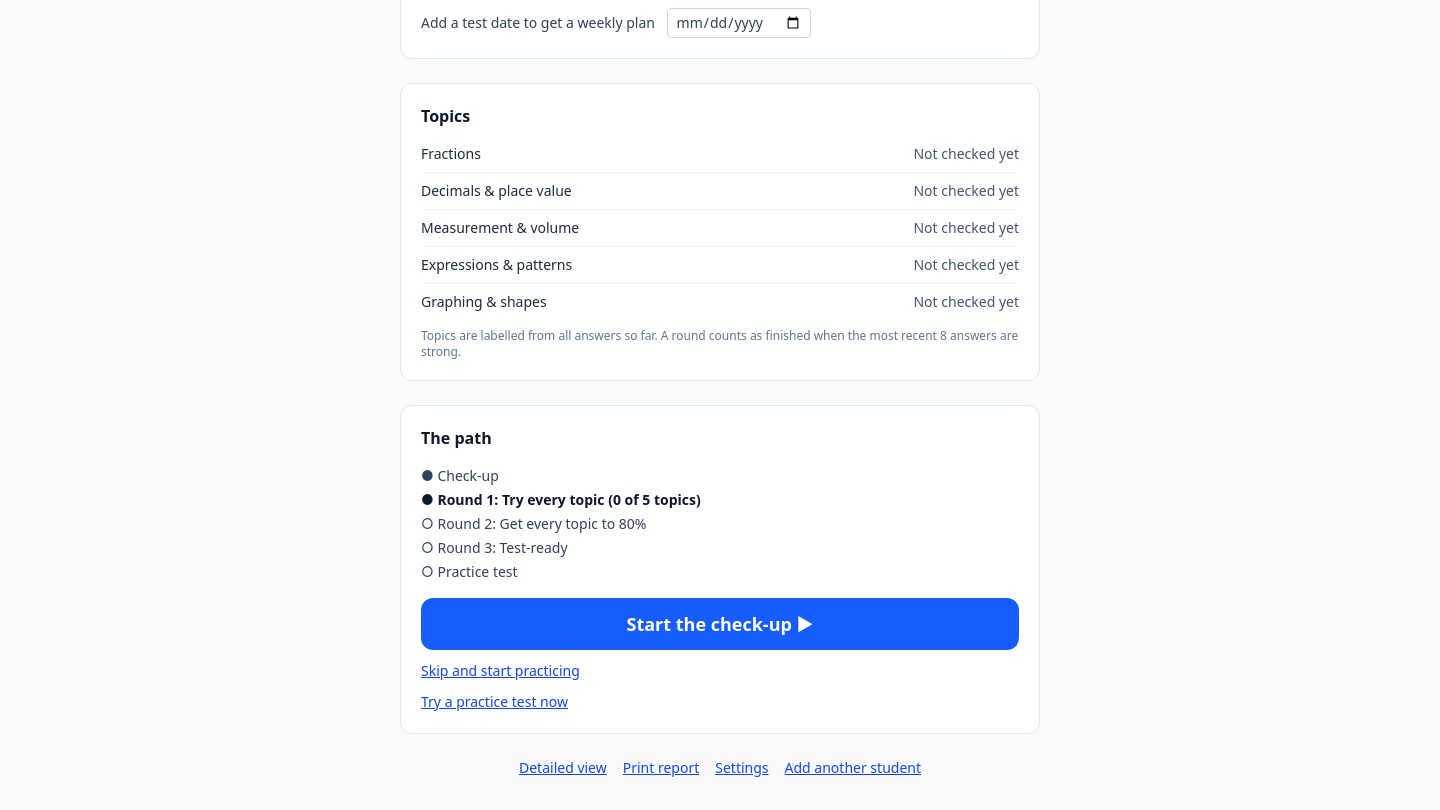
Test case: App flow › opens the detailed view and comes back
(page scrolled)
Click the button "Detailed view": (563, 768) [519,758,607,778]
(page scrolled)
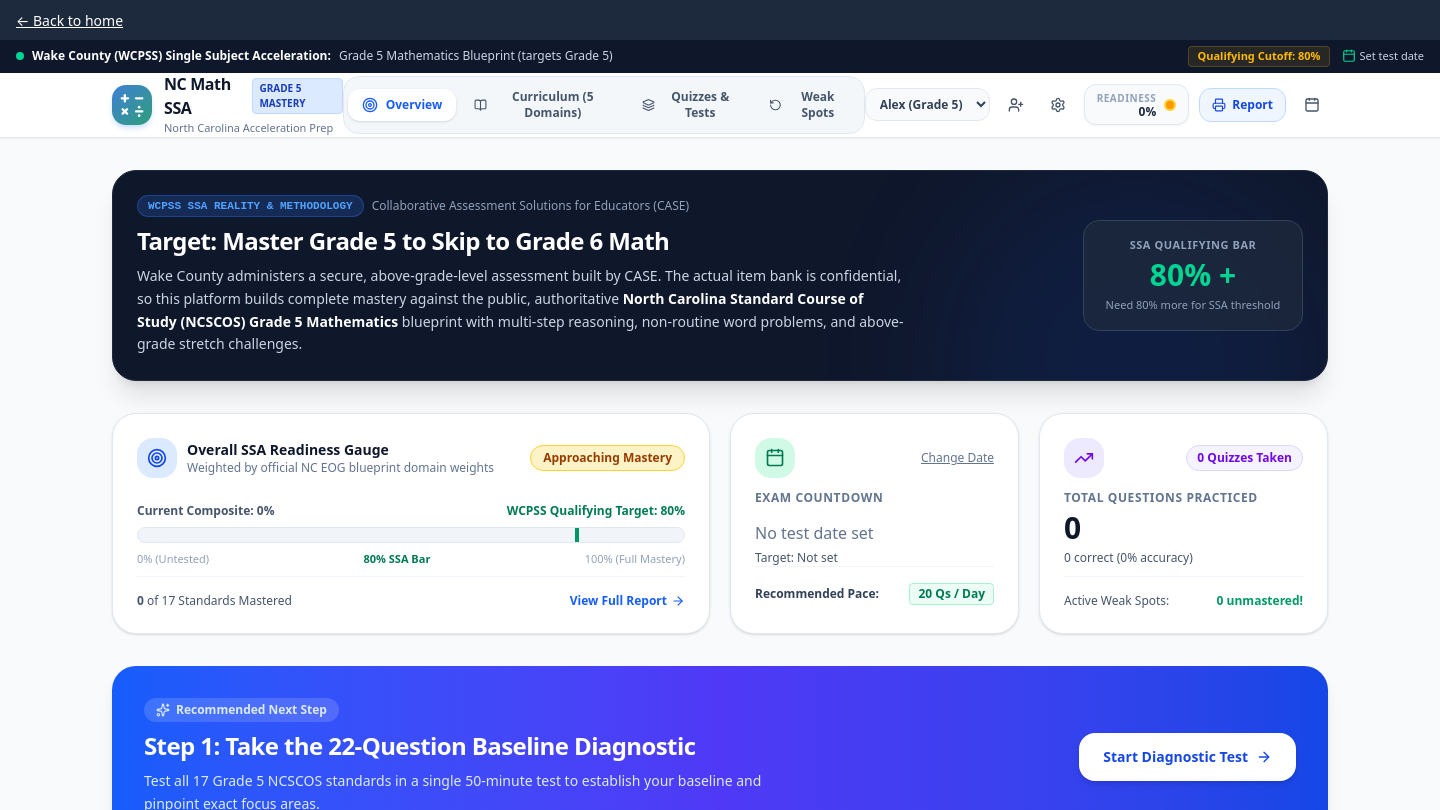
Expected: the navigation bar is shown, [343,76,865,134]
Click the button "← Back to home": (70, 21) [16,11,123,31]
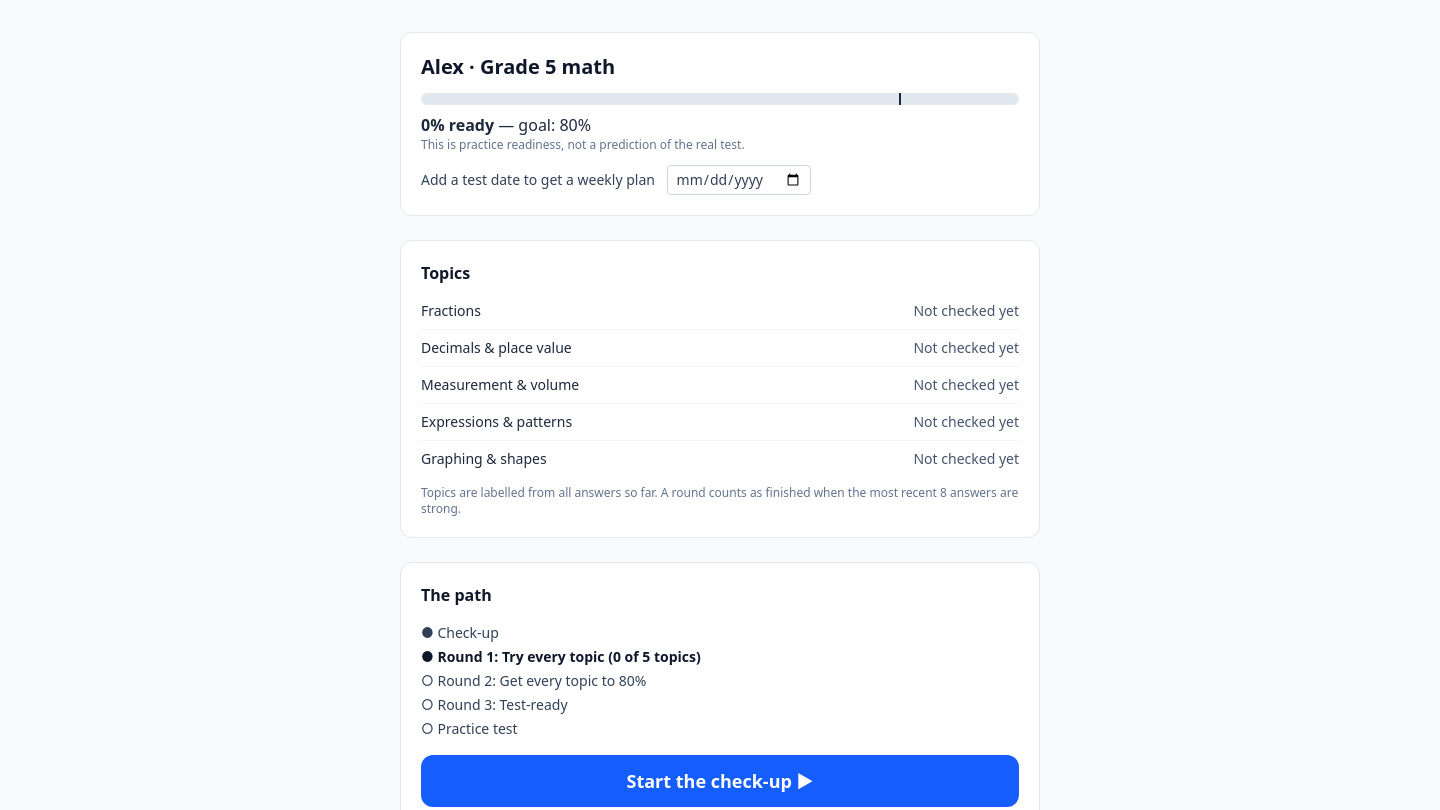
Expected: the heading "Alex · Grade 5 math" is shown, [421,53,615,80]
